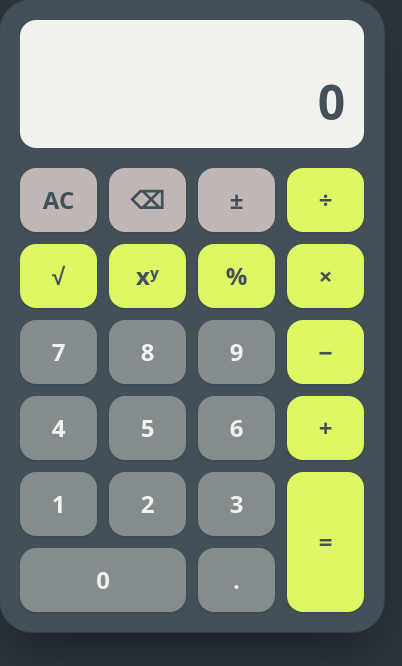
Test case: Calculator › shows 0.1 + 0.2 as 0.3
Click the button named "Decimal point" at x=236, y=580, box [198,548,275,612]
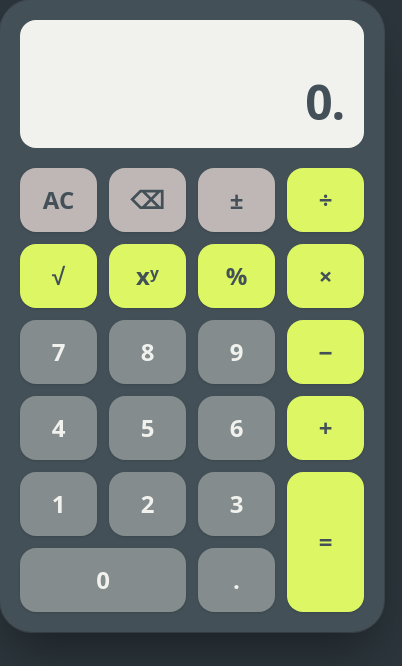
Click the button "1" at x=58, y=504, box [20,472,97,536]
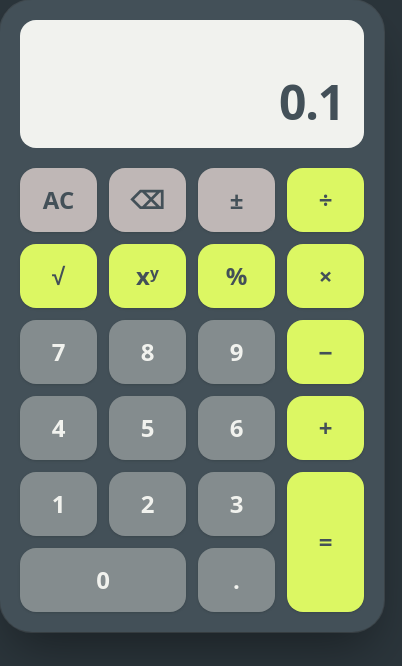
Click the button named "Add" at x=326, y=428, box [287,396,364,460]
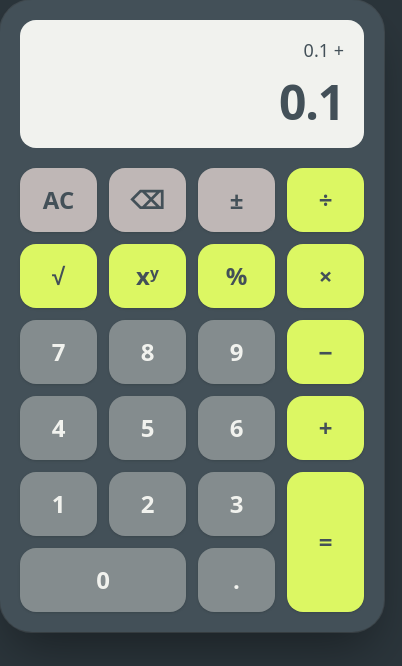
Click the button named "Decimal point" at x=236, y=580, box [198,548,275,612]
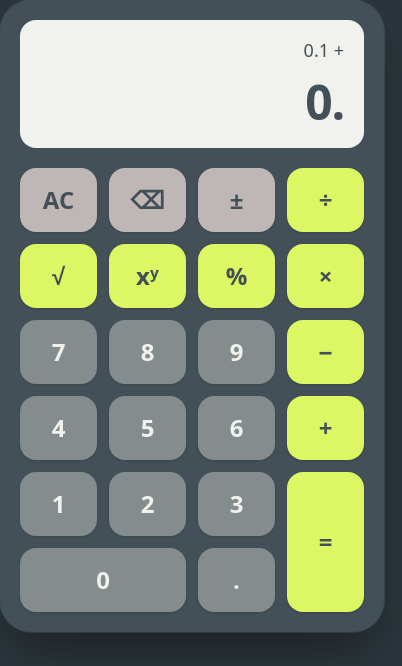
Click the button "2" at x=148, y=504, box [109,472,186,536]
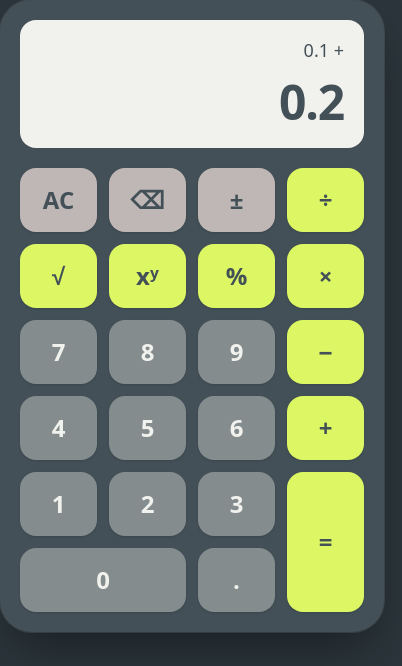
Click the button named "Equals" at x=326, y=542, box [287,472,364,612]
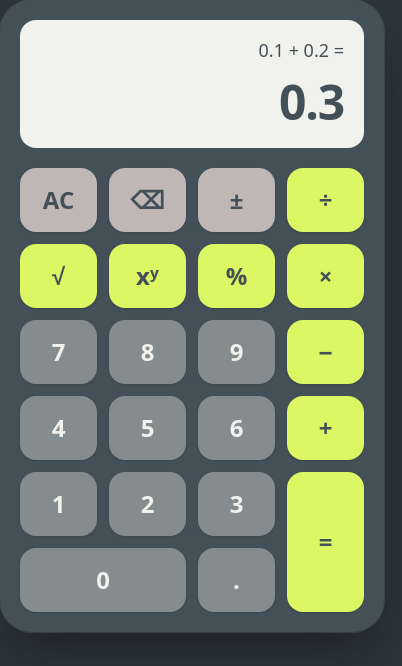
Result: the text "0.3" is shown at [279,69,344,134]
